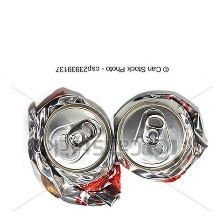can: (24, 85, 124, 210), (113, 84, 210, 183)
